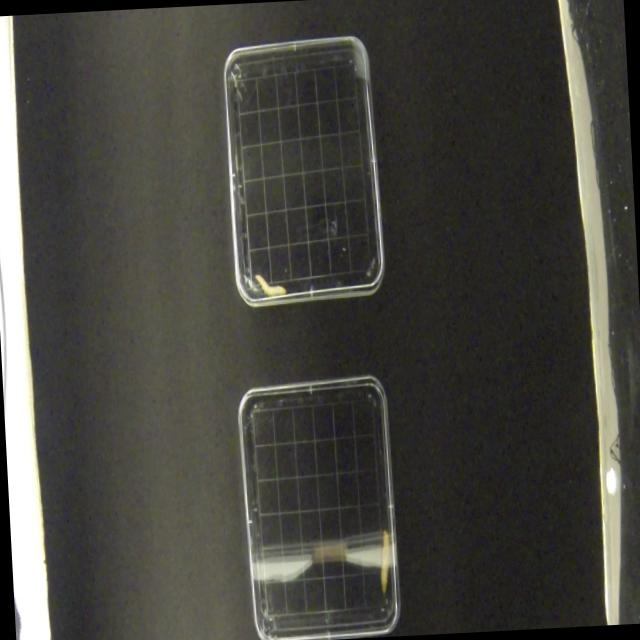larva: (378, 530, 395, 598), (253, 270, 289, 300)
